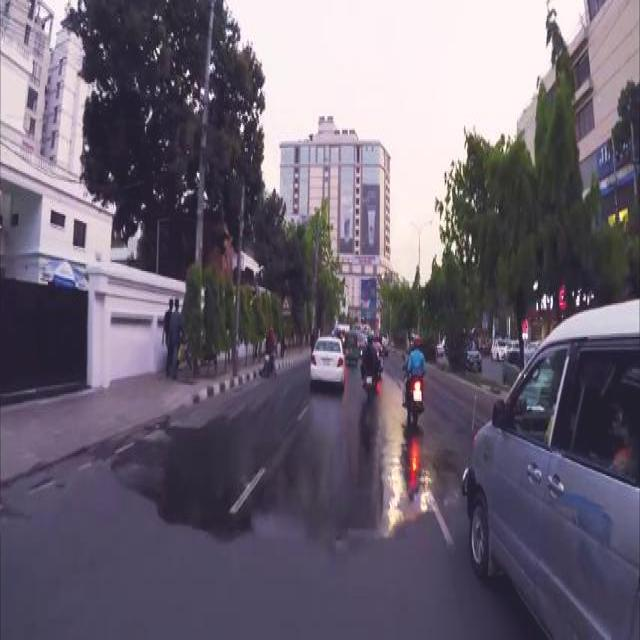MOTORCYCLE: (409, 367, 428, 428), (363, 353, 383, 400)
